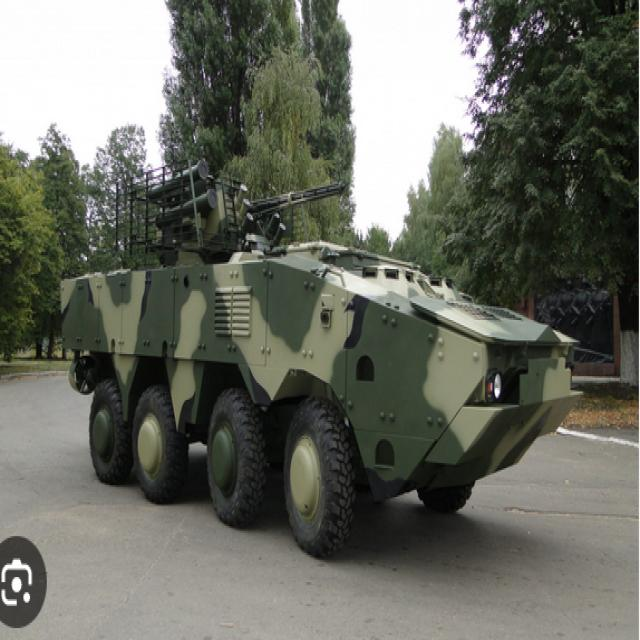MIL_APC: (60, 154, 592, 558)
